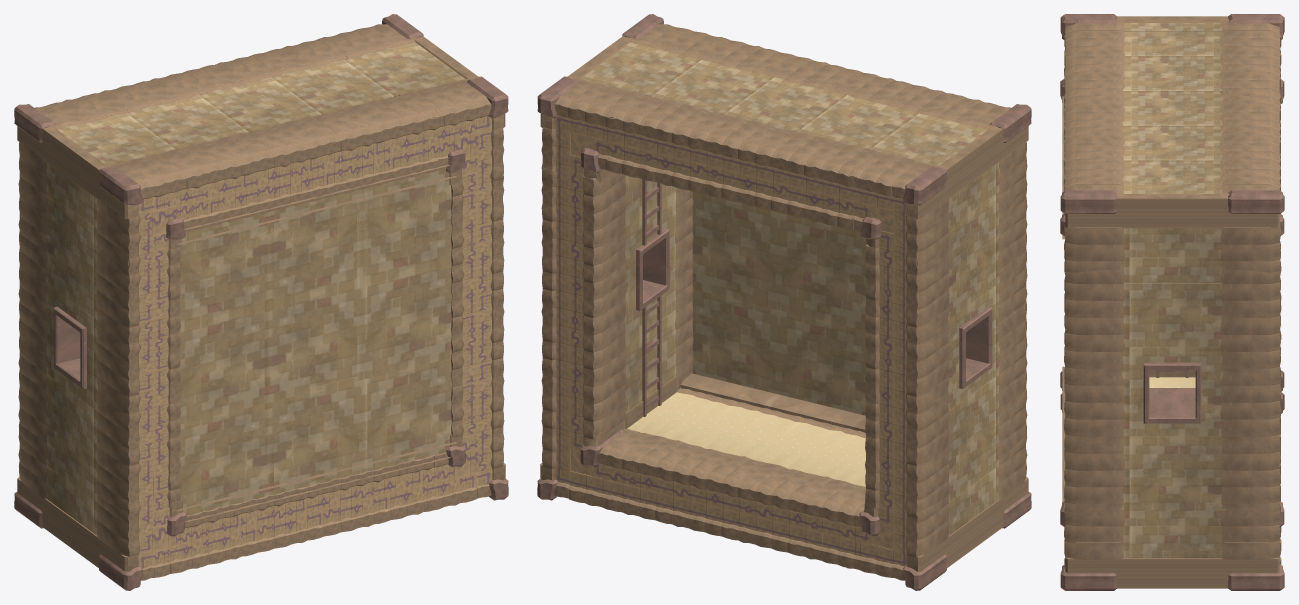
Rendered from EgyptianFloorRoomBase.fbx.
3 views of the same model, side by side, from view 1: azimuth 30°, elevation 25°; view 2: azimuth 150°, elevation 25°; view 3: azimuth 270°, elevation 25° (orthographic). The views are drawn at different scales.
Parts seen in each view (by area): view 1: RoomEdges, RoomWall; view 2: RoomEdges, RoomWall; view 3: RoomEdges, RoomWall.
Part boxes in pixels (bbox=[...]): RoomEdges: bbox=[14, 14, 508, 590]; RoomWall: bbox=[177, 164, 456, 522]; RoomEdges: bbox=[537, 14, 1031, 590]; RoomWall: bbox=[680, 192, 866, 432]; RoomEdges: bbox=[1060, 14, 1284, 590]; RoomWall: bbox=[1062, 96, 1065, 501].
Bounding box in the file's own units: 5315 × 5314 × 2726.
Materials: 5 (5 with a texture image).
